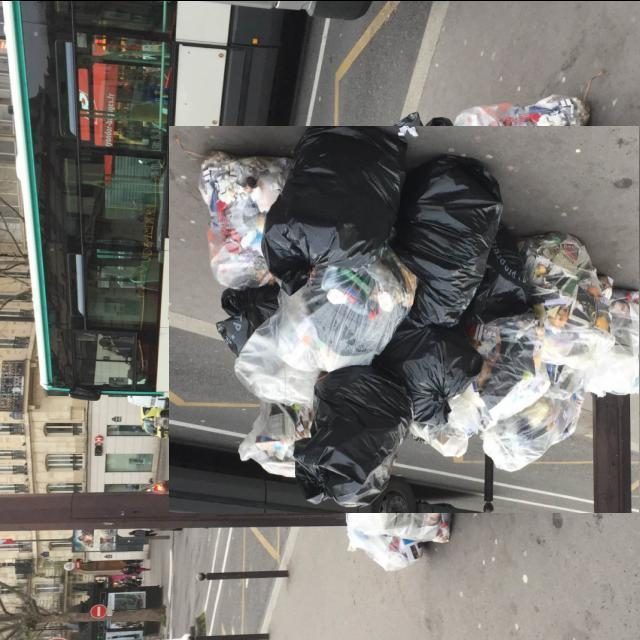Trashbag: (263, 127, 411, 293), (402, 150, 507, 331), (298, 377, 406, 497), (393, 336, 489, 424), (205, 282, 285, 354)
